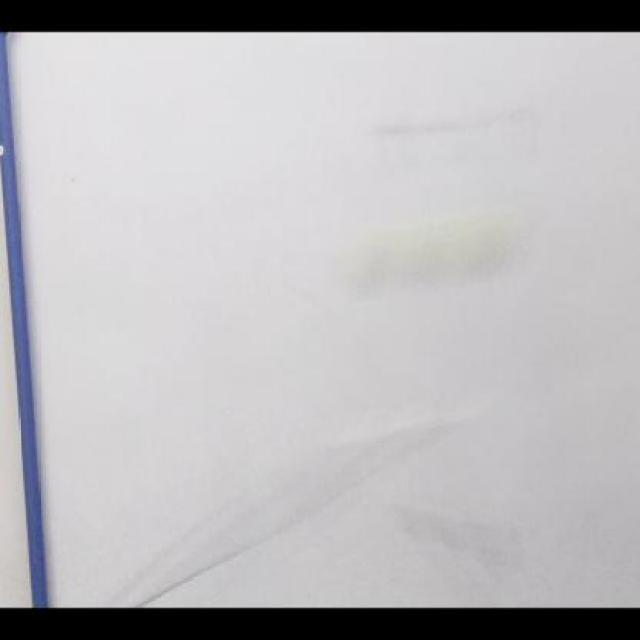baseball: (351, 209, 509, 300)
